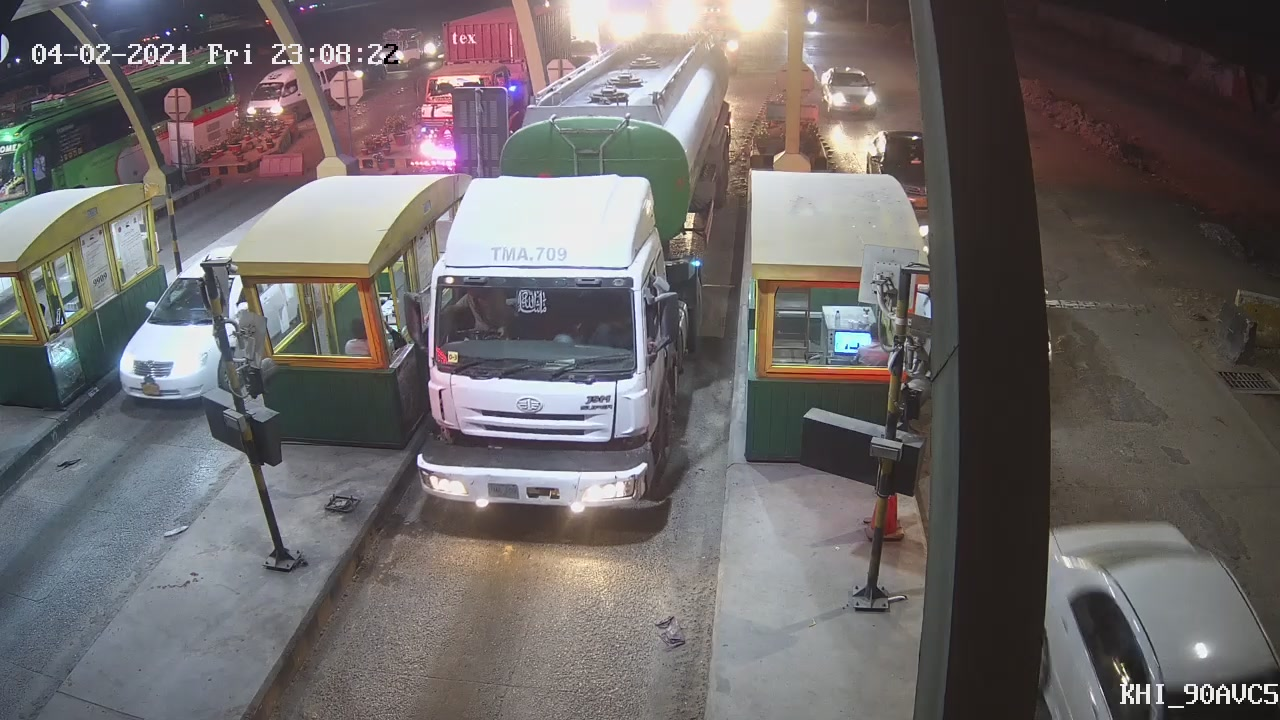F6: (405, 29, 739, 527)
